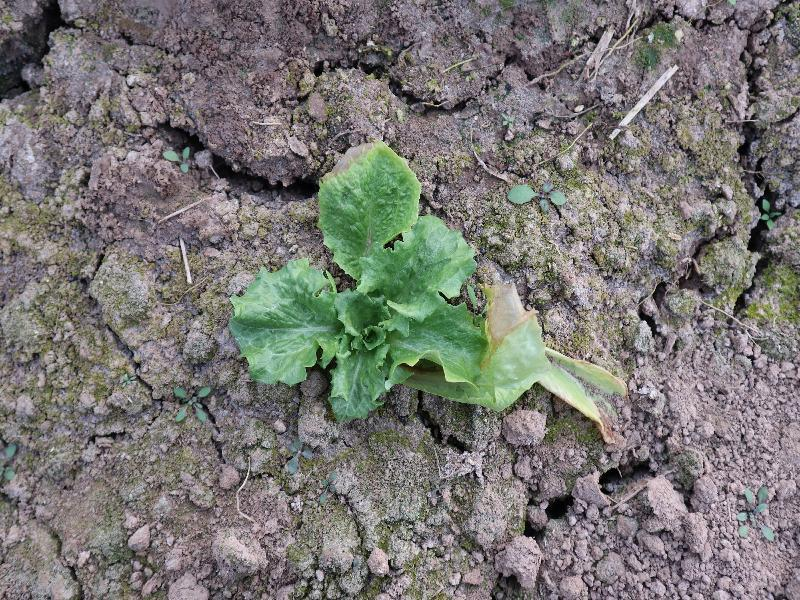lettuce: (227, 137, 632, 441)
